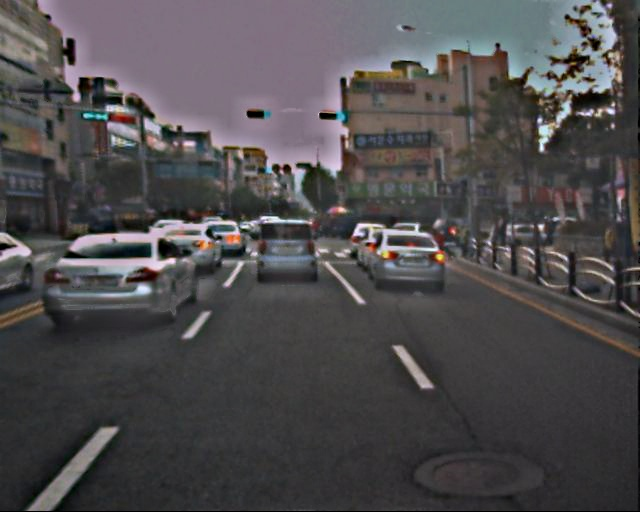person: (599, 219, 625, 282), (495, 209, 510, 246), (457, 224, 472, 260), (541, 210, 556, 246)
